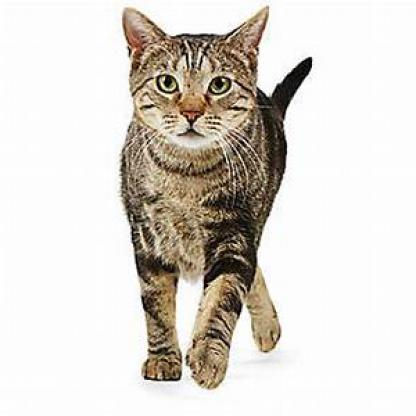cat: (119, 10, 288, 377)
